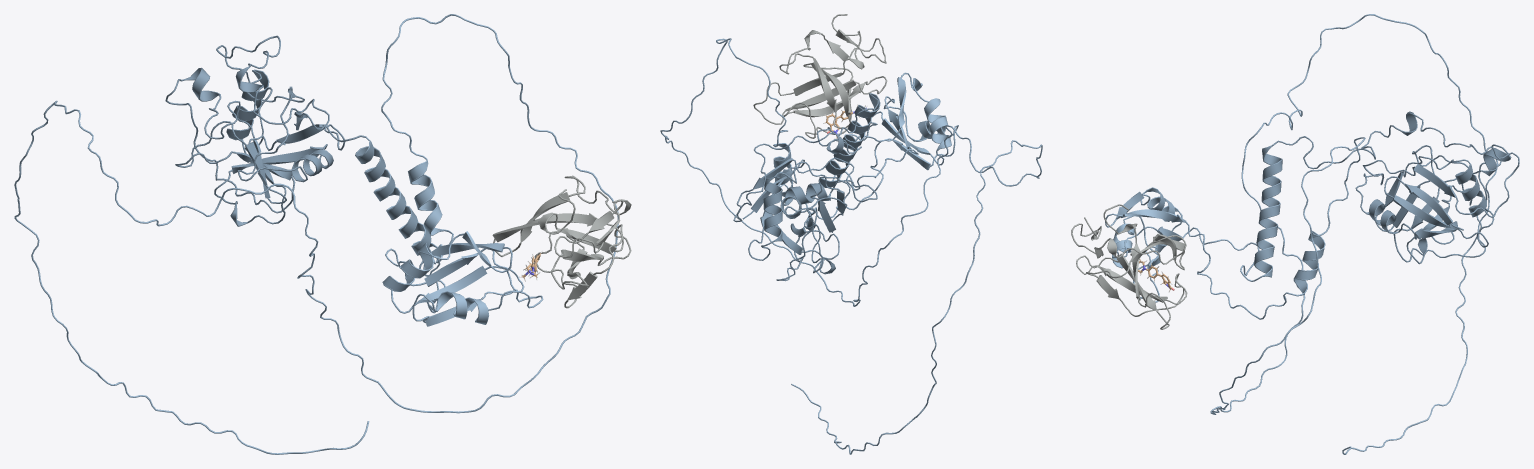
The model's file is negctrl_no_glutarimide.glb.
3 renders of one model, left to right at view 1: azimuth 30°, elevation 25°; view 2: azimuth 150°, elevation 25°; view 3: azimuth 270°, elevation 25°, orthographic. The views are drawn at different scales.
Parts seen in each view (by area): view 1: node-geom79, node-geom80; view 2: node-geom79, node-geom80; view 3: node-geom79, node-geom80.
Boxes of the visible parts, x1=… form: node-geom79: x1=165, y1=35, x2=631, y2=308; node-geom80: x1=14, y1=14, x2=618, y2=454; node-geom79: x1=733, y1=14, x2=887, y2=281; node-geom80: x1=660, y1=38, x2=1042, y2=454; node-geom79: x1=1071, y1=111, x2=1519, y2=329; node-geom80: x1=1105, y1=14, x2=1498, y2=454.
Size of the model in its own units: 122 by 102 by 114.
